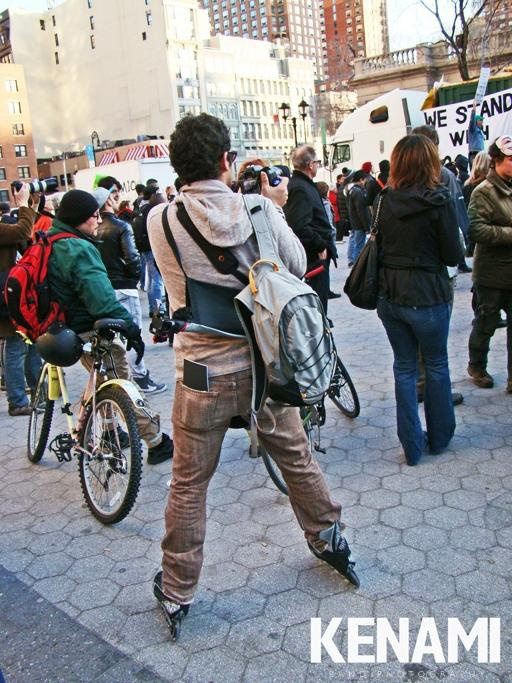non-vehicle: (22, 314, 146, 527), (259, 258, 359, 498)
